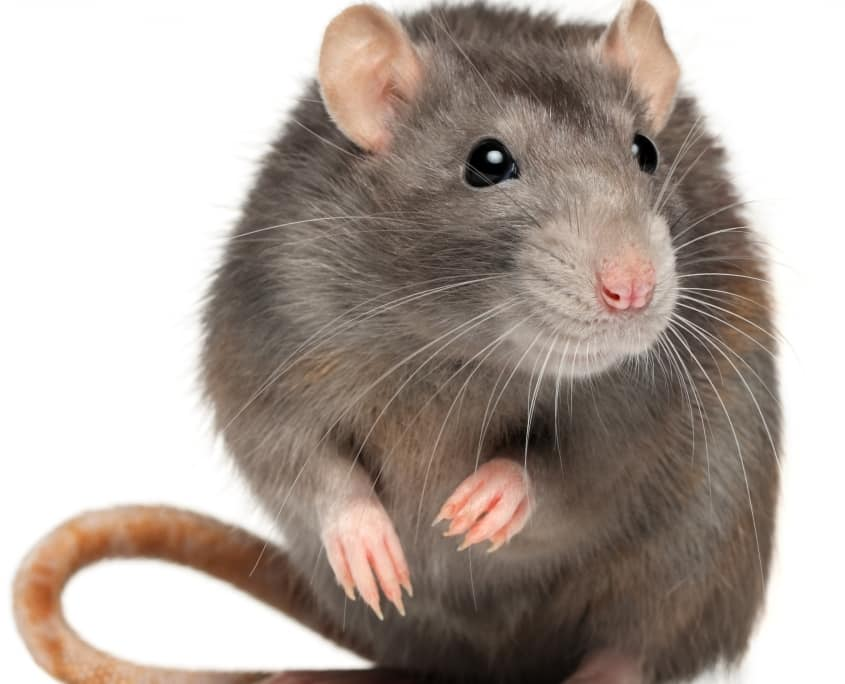rat: (8, 1, 798, 684)
